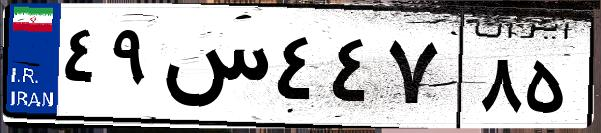4: (270, 28, 330, 110), (330, 28, 385, 110), (57, 26, 110, 100)
5: (525, 38, 570, 115)
7: (385, 28, 445, 110)
8: (475, 38, 525, 113)
9: (110, 28, 158, 98)
س: (158, 20, 270, 120)
